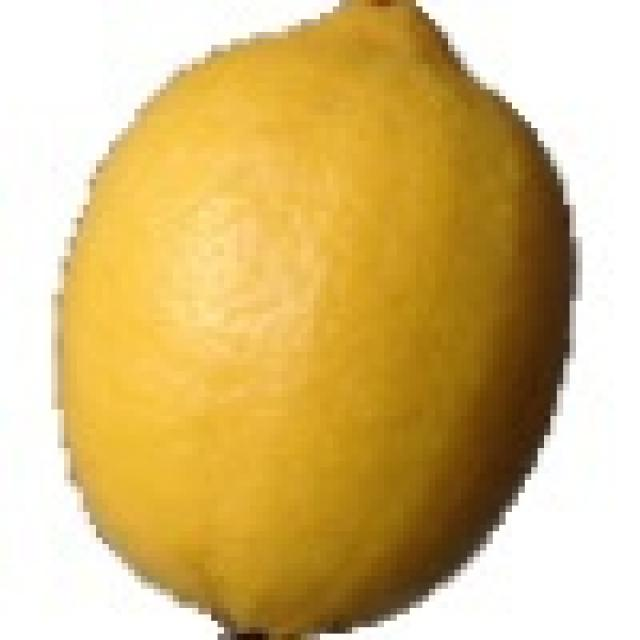lemon: (32, 0, 582, 627)
